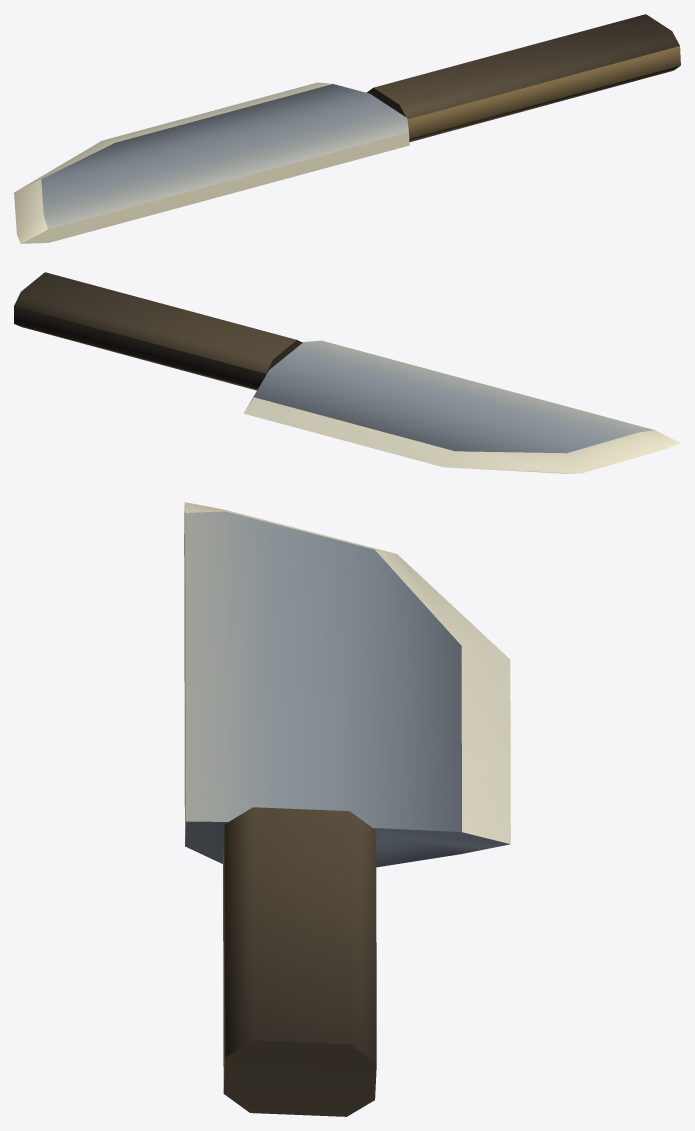
File: knife_lying_flat.fbx
3 views of the same model, one above another, from view 1: azimuth 30°, elevation 25°; view 2: azimuth 150°, elevation 25°; view 3: azimuth 270°, elevation 25° (orthographic). The views are drawn at different scales.
Visible parts, largest first — view 1: knife_lying_flat; view 2: knife_lying_flat; view 3: knife_lying_flat.
Boxes of the visible parts, x1=… form: knife_lying_flat: x1=14, y1=14, x2=680, y2=243; knife_lying_flat: x1=14, y1=272, x2=680, y2=473; knife_lying_flat: x1=184, y1=502, x2=510, y2=1116.
Bounding box in the file's own units: 40.51 × 2.83 × 9.25.
